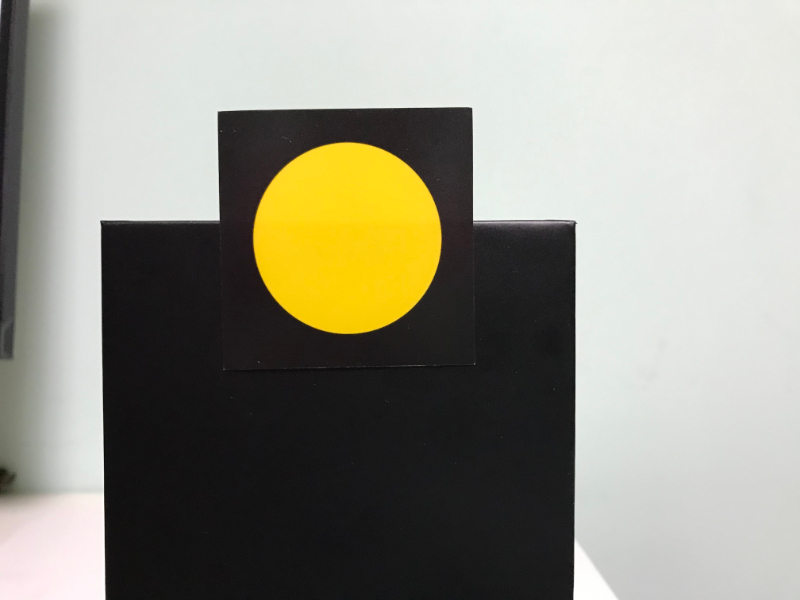Stop-5: (224, 115, 467, 362)
